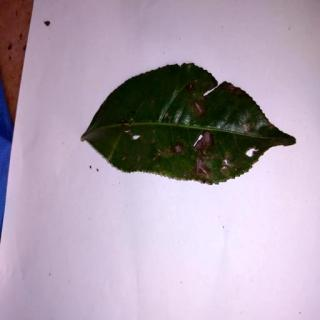Anthracnose: (85, 64, 298, 188)
